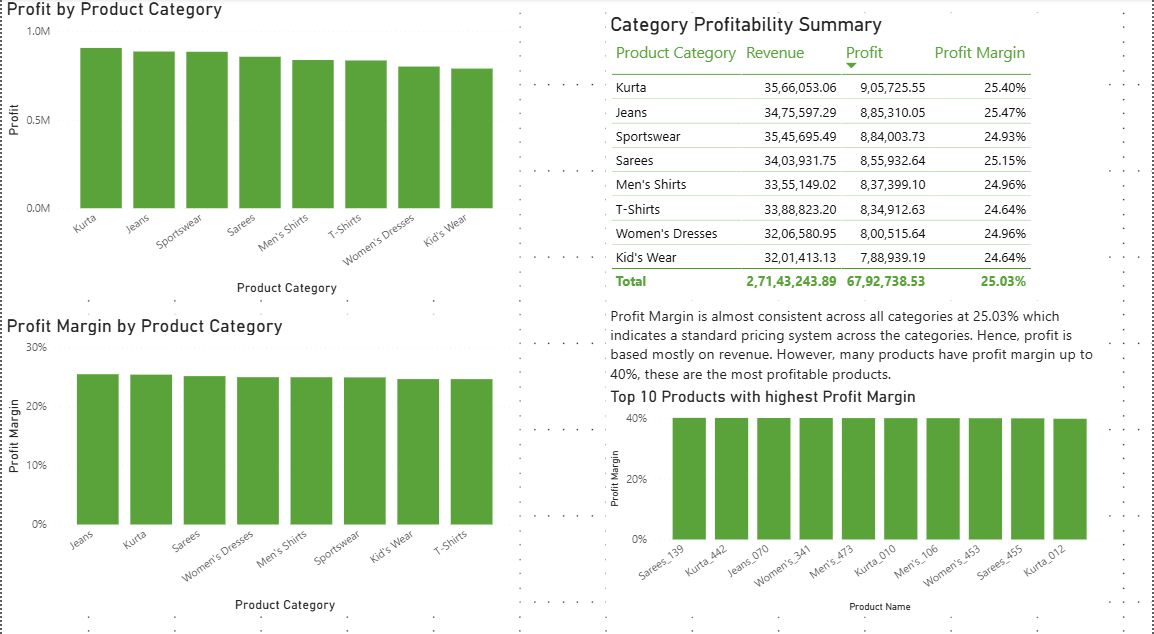

The page's visual inventory and layout, read from the dashboard file:
{"tool":"powerbi","page":{"name":"Product Profitability","canvas":[1280,720],"ordinal":1},"visuals":[{"type":"clusteredColumnChart","title":"Profit by Product Category","fields":{"Category":["Sheet1.productCategory"],"Y":["Sum(Sheet1.Profit)"]},"box":[0,0,576,336],"z":0},{"type":"tableEx","title":"Category Profitability Summary","fields":{"Values":["Sheet1.productCategory","Sum(Sheet1.totalAmount)","Sum(Sheet1.Profit)","Sheet1.Profit Margin"]},"box":[672,16,560,320],"z":1000},{"type":"clusteredColumnChart","fields":{"Category":["Sheet1.productCategory"],"Y":["Sheet1.Profit Margin"]},"box":[0,352,576,336],"z":2000},{"type":"textbox","box":[672,336,560,128],"z":3000},{"type":"clusteredColumnChart","title":"Top 10 Products with highest Profit Margin","fields":{"Category":["Sheet1.productName"],"Y":["Sheet1.Profit Margin"]},"box":[672,432,560,256],"z":4000}]}

Visuals, with their boxes in screenshot pixels (x1, y1, x2, y2), scaled from the page's 1280x720 canvas onto the 1154x634 screenshot:
"Profit by Product Category" clusteredColumnChart: (0, 0, 519, 296)
"Category Profitability Summary" tableEx: (606, 14, 1111, 296)
clusteredColumnChart - Sheet1.productCategory x Sheet1.Profit Margin: (0, 310, 519, 606)
textbox: (606, 296, 1111, 409)
"Top 10 Products with highest Profit Margin" clusteredColumnChart: (606, 380, 1111, 606)
